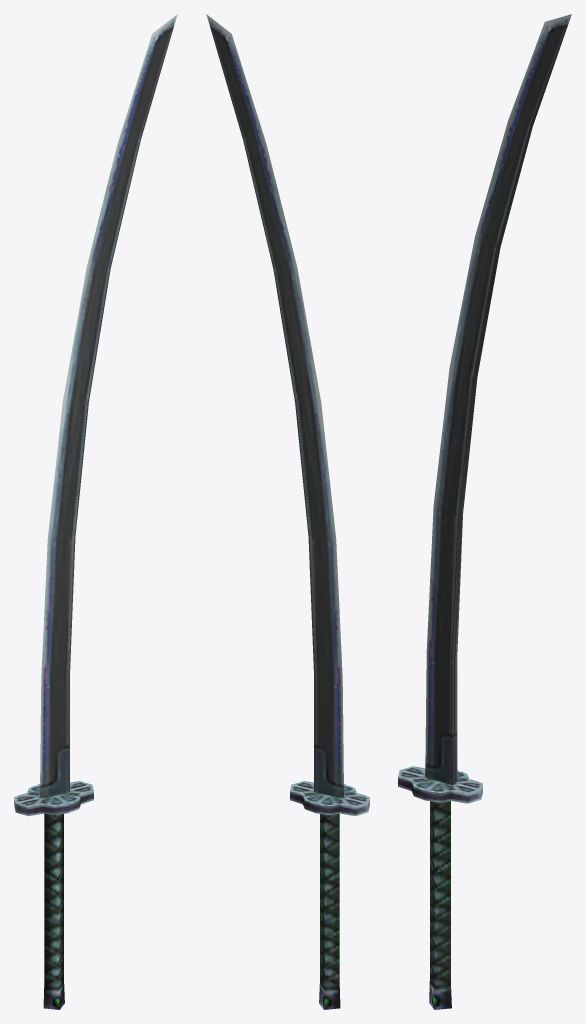
The model's file is TH_Sword11.FBX.
The picture shows the model from 3 angles, left to right: view 1: azimuth 30°, elevation 25°; view 2: azimuth 150°, elevation 25°; view 3: azimuth 330°, elevation 25°; orthographic projection. The views are drawn at different scales.
Visible parts, largest first — view 1: TH_Sword11; view 2: TH_Sword11; view 3: TH_Sword11.
Boxes of the visible parts, x1,y1,x2,y2 form: TH_Sword11: [14, 14, 177, 1009]; TH_Sword11: [206, 14, 369, 1009]; TH_Sword11: [398, 14, 571, 1009].
Size of the model in its own units: 29.76 by 169 by 8.86.
